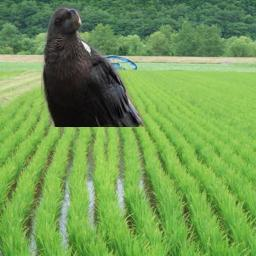Crow: (41, 4, 147, 127)
